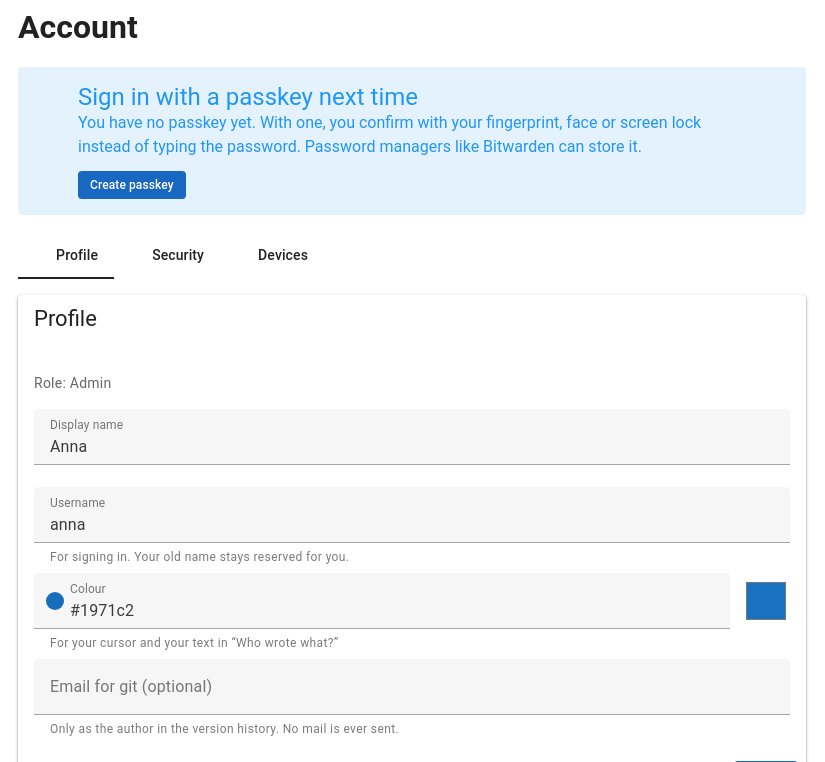
Test: AccountView › creates a passkey from the reminder and stops reminding
Click the button "Create passkey" at {"x": 132, "y": 185}, box [78,171,186,199]
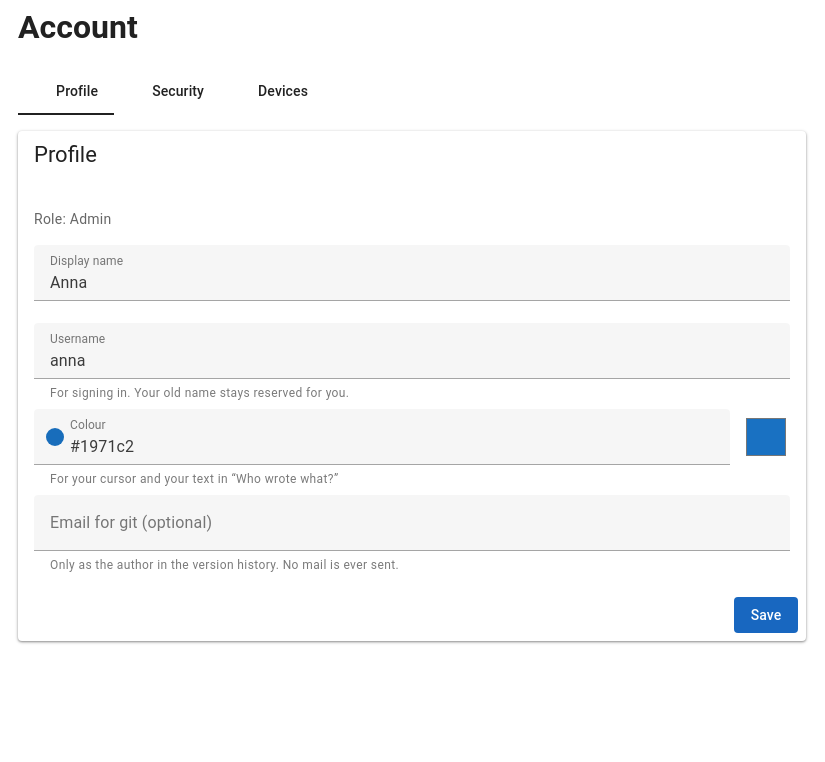
Now the element with test id "passkey-reminder" is gone
